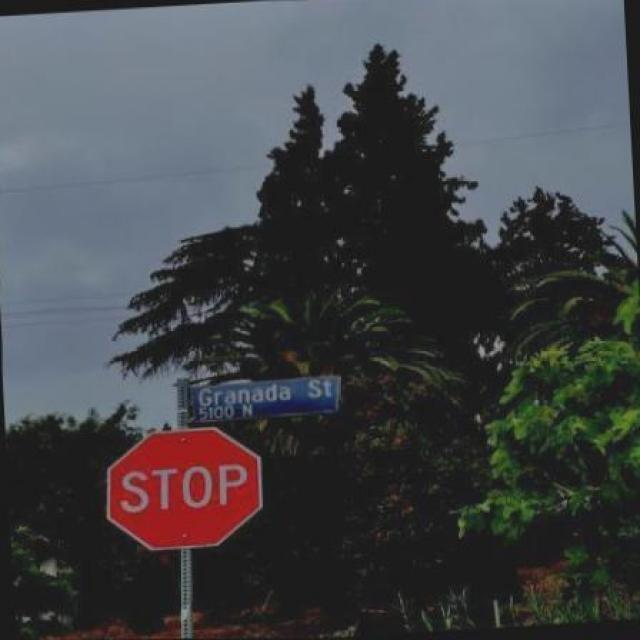Stop-Sign: (109, 428, 262, 550)
